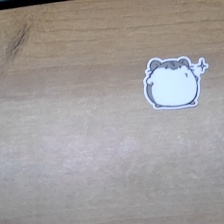mouse: (141, 55, 210, 112)
